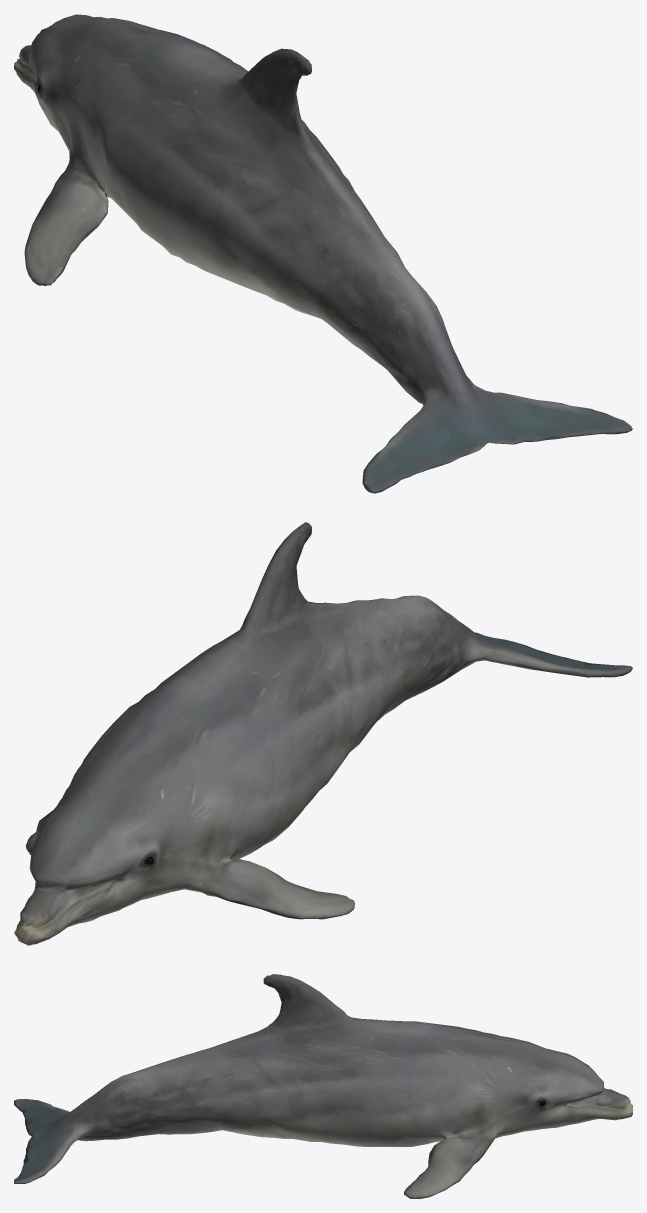
The model's file is tuimelaar.glb.
3 renders of one model, top to bottom at view 1: azimuth 30°, elevation 25°; view 2: azimuth 150°, elevation 25°; view 3: azimuth 270°, elevation 25°, orthographic. The views are drawn at different scales.
Parts seen in each view (by area): view 1: tripo_node_a0e0e043-8d8c-4a88-8301-8da21d253b96; view 2: tripo_node_a0e0e043-8d8c-4a88-8301-8da21d253b96; view 3: tripo_node_a0e0e043-8d8c-4a88-8301-8da21d253b96.
Boxes of the visible parts, left/top/right/bottom form: tripo_node_a0e0e043-8d8c-4a88-8301-8da21d253b96: left=14, top=14, right=632, bottom=493; tripo_node_a0e0e043-8d8c-4a88-8301-8da21d253b96: left=14, top=522, right=632, bottom=945; tripo_node_a0e0e043-8d8c-4a88-8301-8da21d253b96: left=14, top=974, right=632, bottom=1198.
Size of the model in its own units: 3.07 by 2.5 by 8.03.
1 material, 1 textured.
